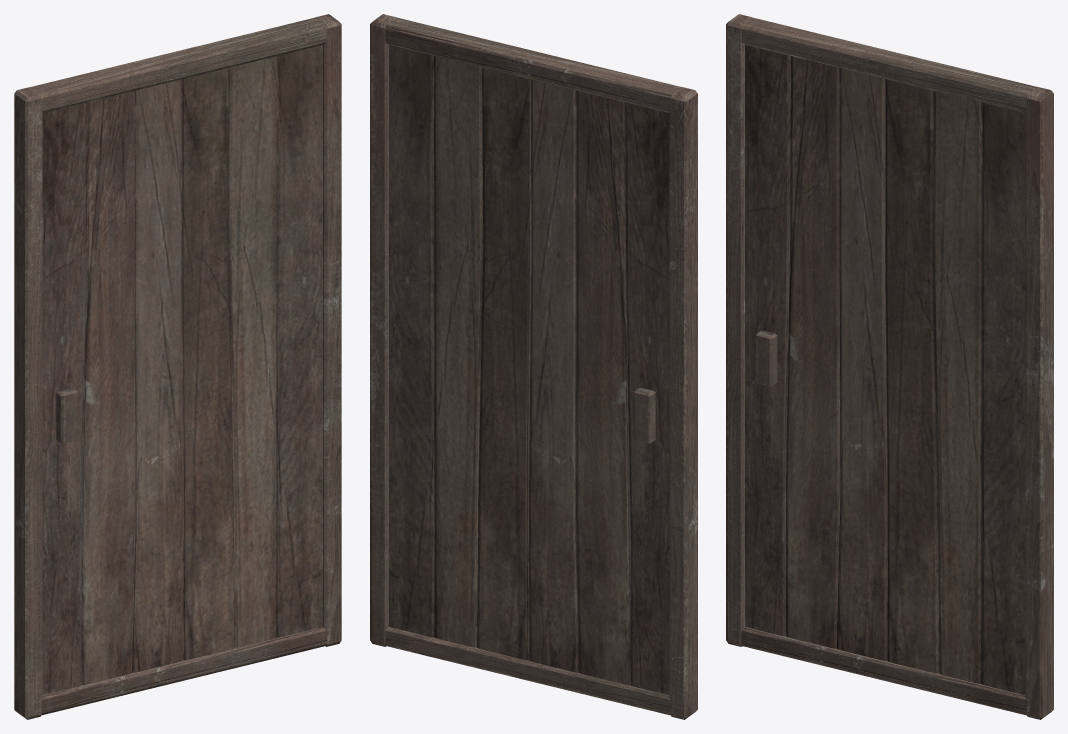
File: DoorWood.fbx
3 renders of one model, left to right at view 1: azimuth 30°, elevation 25°; view 2: azimuth 150°, elevation 25°; view 3: azimuth 330°, elevation 25°, orthographic.
Visible parts, largest first — view 1: 3D_DoorWoods.mo; view 2: 3D_DoorWoods.mo; view 3: 3D_DoorWoods.mo.
Boxes of the visible parts, <box> form: 3D_DoorWoods.mo: <box>14,14,341,719</box>; 3D_DoorWoods.mo: <box>370,14,697,719</box>; 3D_DoorWoods.mo: <box>726,14,1053,719</box>.
Bounding box in the file's own units: 166 × 311 × 17.66.
Materials: 1 (1 with a texture image).
